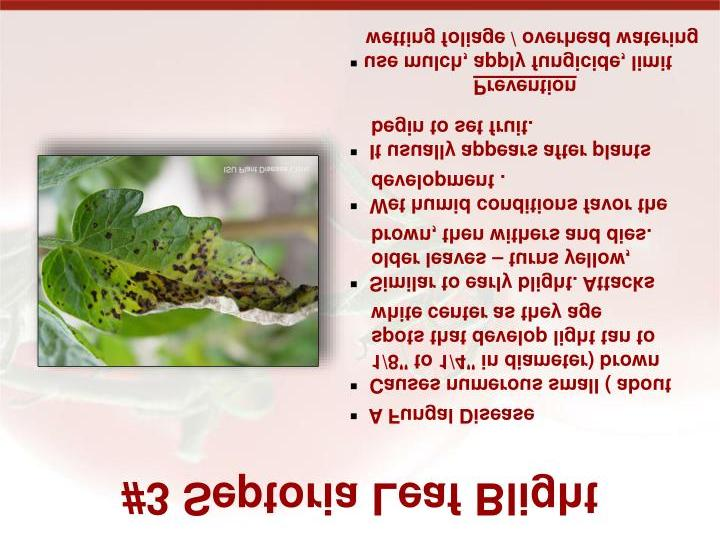Tomato Septoria leaf spot: (49, 177, 314, 331)
